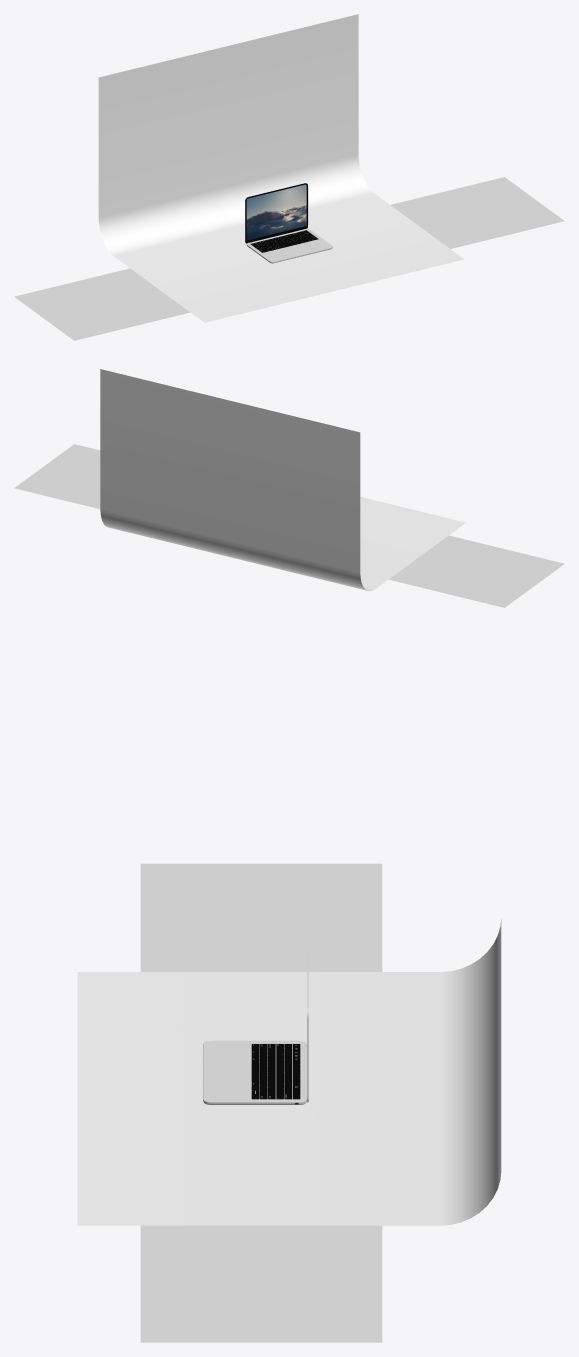
File: laptop.gltf
3 renders of one model, top to bottom at view 1: azimuth 30°, elevation 25°; view 2: azimuth 150°, elevation 25°; view 3: azimuth 270°, elevation 25°, orthographic. The views are drawn at different scales.
Visible parts, largest first — view 1: Plane.003, Plane.005, Display.003, Plane.006, Plane.001, Display; view 2: Plane.003, Plane.005; view 3: Plane.003, Plane.005, Plane.006, Plane.001, Plane.002.
Boxes of the visible parts, x1=… form: Plane.003: x1=98, y1=14, x2=464, y2=322; Plane.005: x1=14, y1=177, x2=564, y2=340; Display.003: x1=246, y1=184, x2=306, y2=240; Plane.006: x1=246, y1=228, x2=332, y2=263; Plane.001: x1=250, y1=230, x2=318, y2=252; Display: x1=245, y1=183, x2=307, y2=243; Plane.003: x1=100, y1=369, x2=465, y2=590; Plane.005: x1=14, y1=444, x2=564, y2=607; Plane.003: x1=77, y1=919, x2=501, y2=1225; Plane.005: x1=140, y1=863, x2=382, y2=1342; Plane.006: x1=203, y1=1040, x2=306, y2=1104; Plane.001: x1=251, y1=1044, x2=300, y2=1099; Plane.002: x1=205, y1=1058, x2=248, y2=1084.
Bounding box in the file's own units: 24.89 × 8.21 × 9.31.
11 materials, 3 textured.
